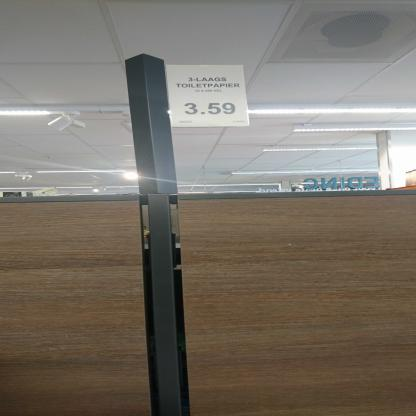prtg: (166, 66, 250, 128)
